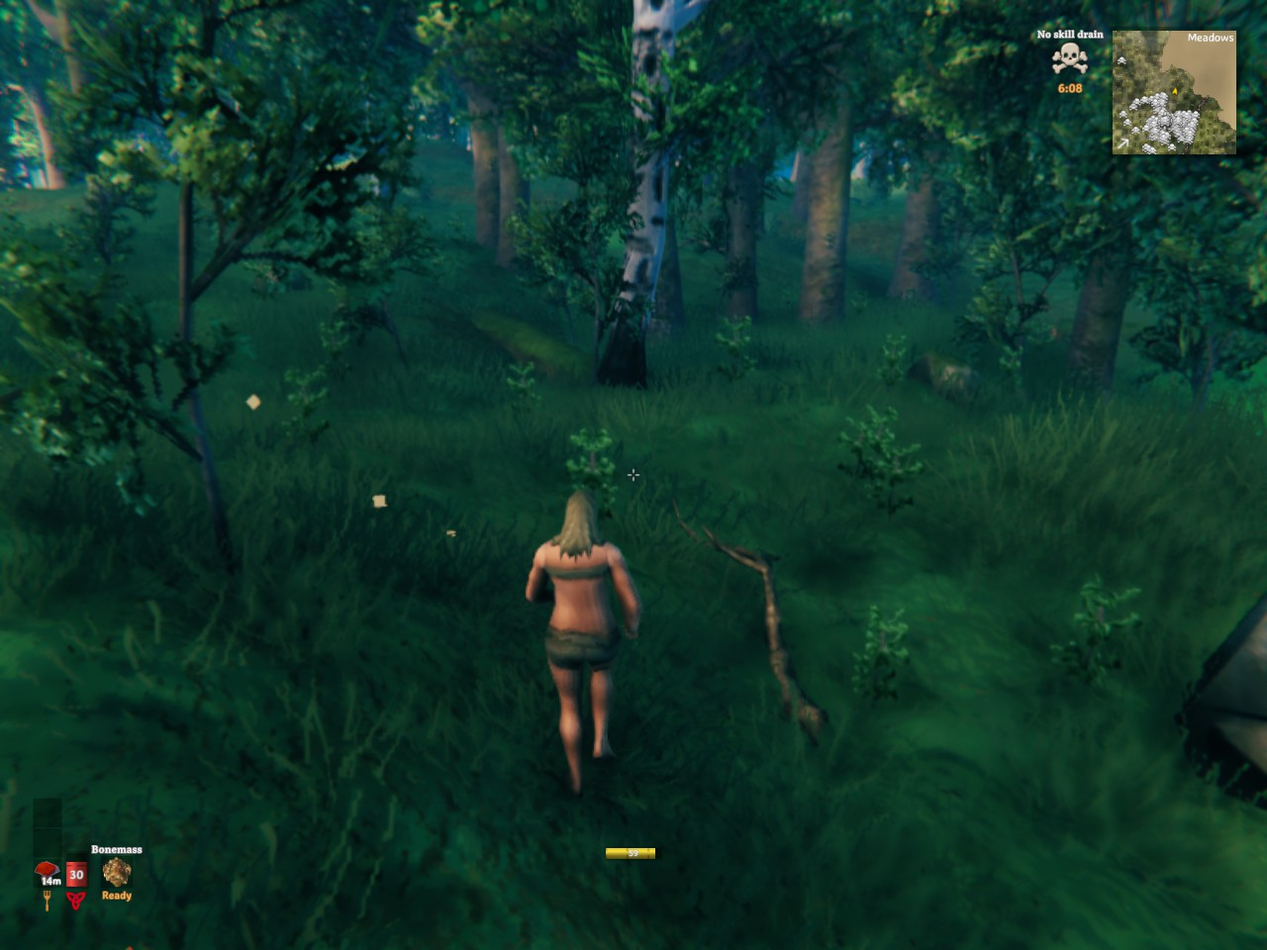Branch: (674, 501, 827, 744)
